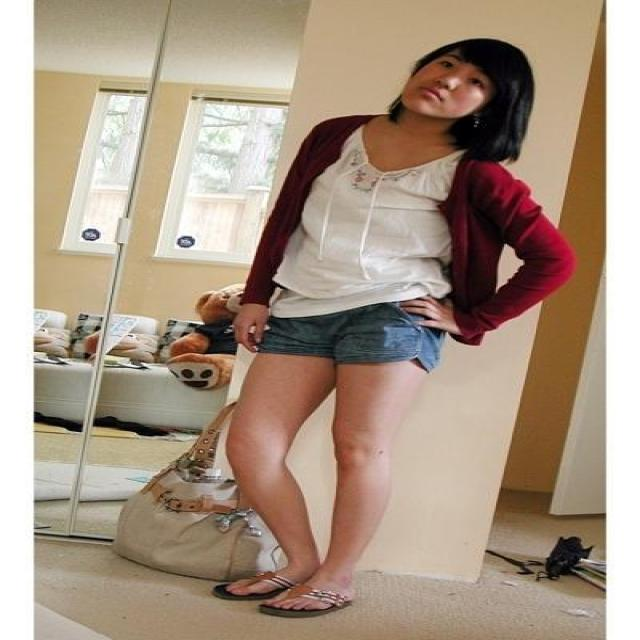bag: (96, 422, 286, 596)
jacket: (238, 116, 576, 345)
shirt: (270, 141, 461, 317)
shoe: (256, 584, 325, 616)
shorts: (212, 298, 446, 600)
